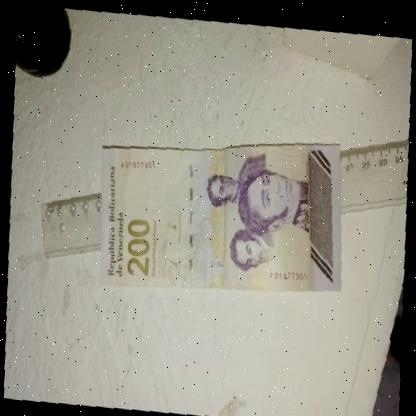two_hundred-front-vef: (89, 108, 353, 316)
